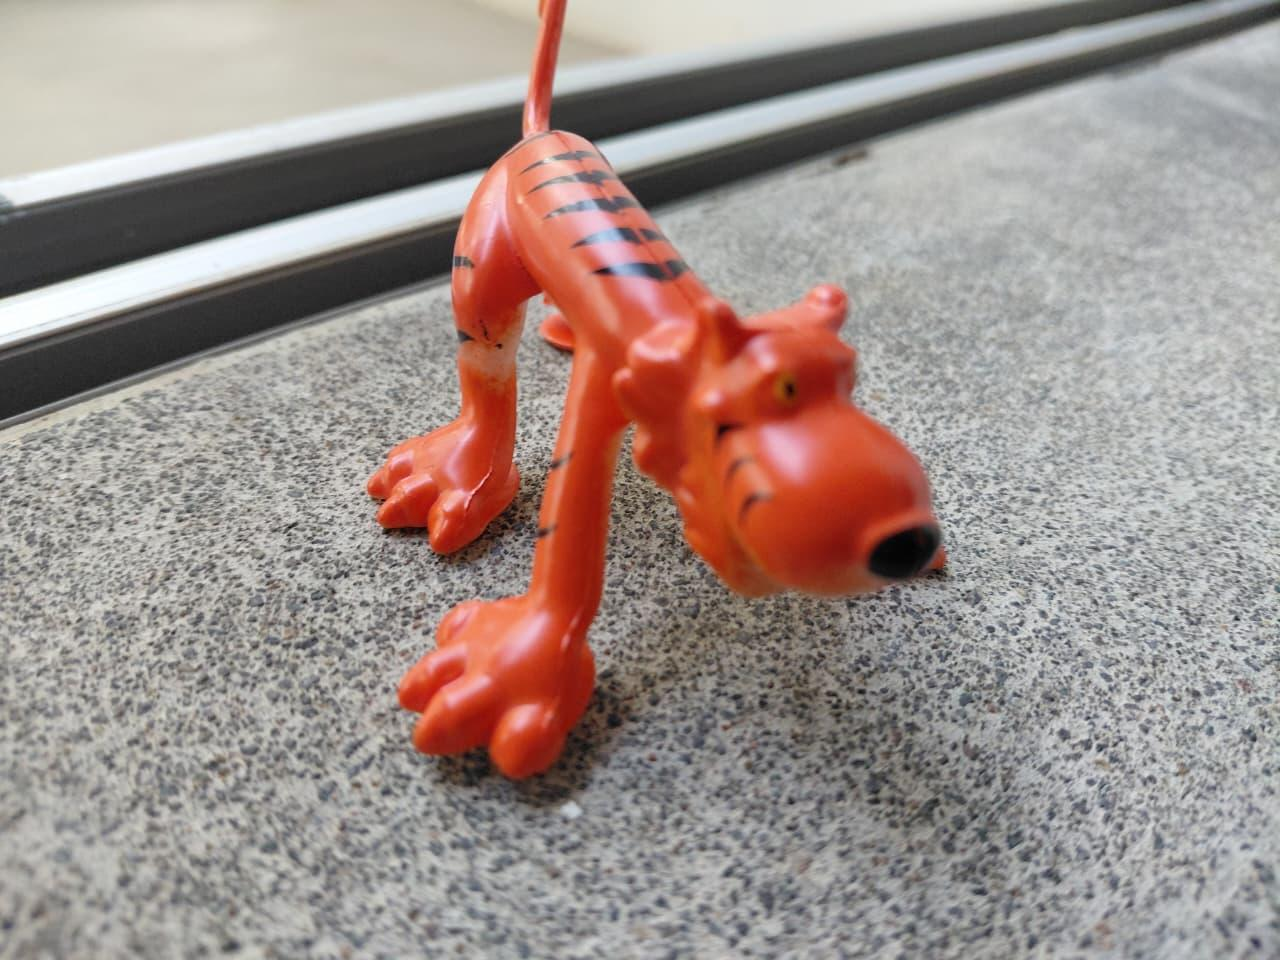tiger: (340, 12, 991, 834)
